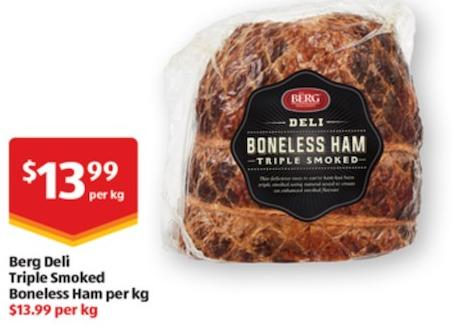description_block: (5, 251, 156, 304)
price_main: (2, 131, 142, 246)
product_image_block: (162, 11, 430, 276)
unit_price_block: (3, 298, 102, 322)
